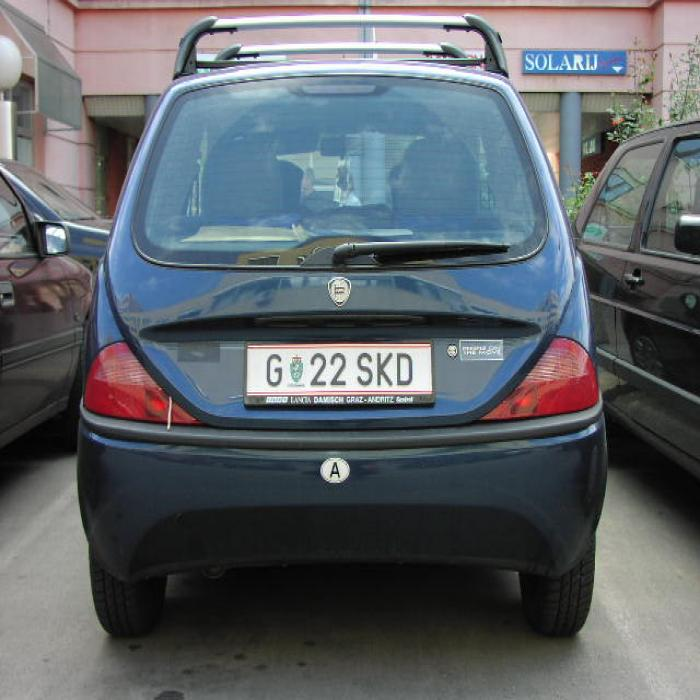number_plate: (247, 344, 430, 391)
